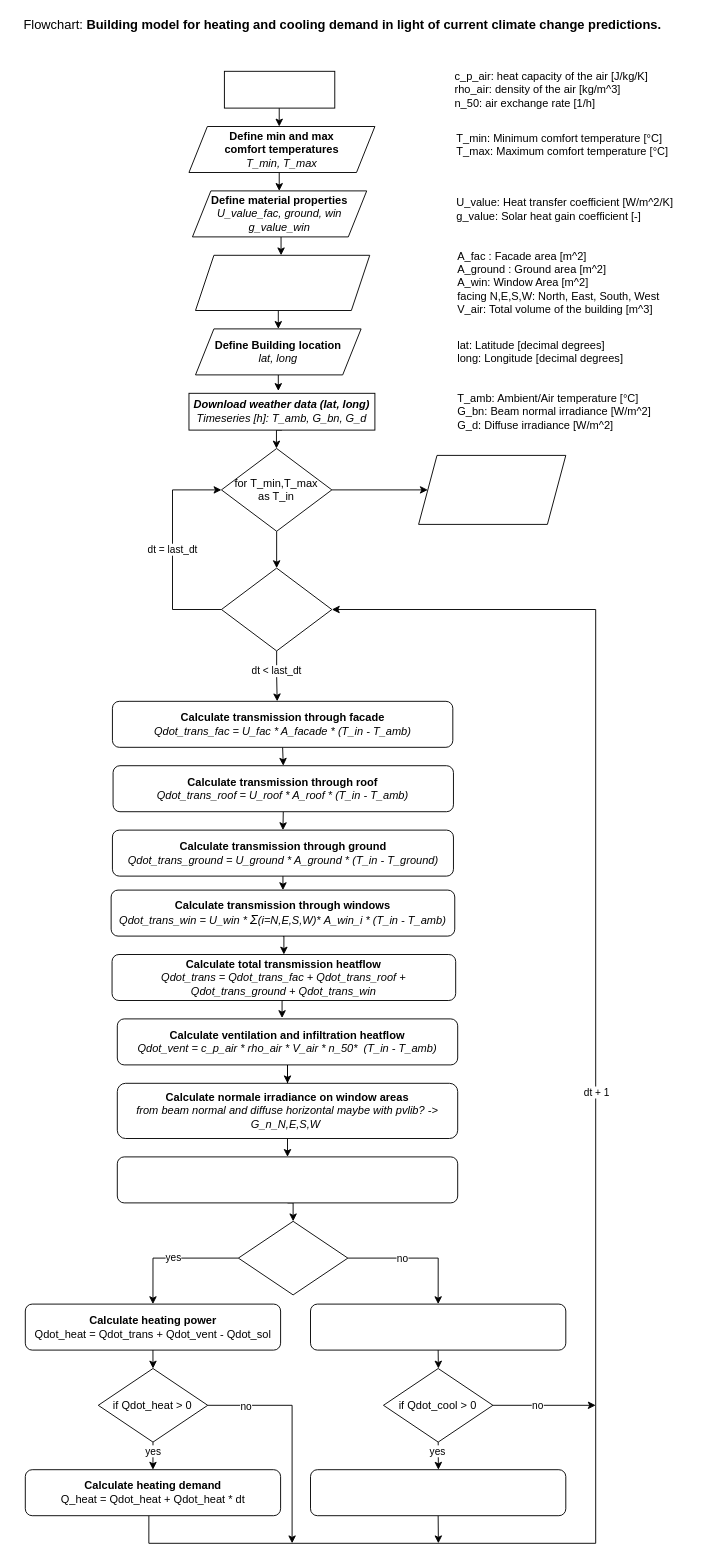
Some shapes in this 703 by 1567 pixel diagram are drawn without their labels. Here are the shapes that lost their labels. From the top down, the centre of each, then its label:
[279,89]: material constants c_p_air, rho_air, n_50
[282,282]: Define building geometry A_fac, A_ground, A_win_N,E,S,W V_air
[492,489]: Print total heating and cooling demand Q_heat, Q_cool
[276,609]: for timestep dt in timeseries
[287,1179]: Calculate solar gains Qdot_sol = g * Σ (i=N,E,S,W) A_i * G_n_i
[292,1257]: if T_in = T_min
[438,1326]: Calculate cooling power Qdot_heat = Qdot_trans + Qdot_vent - Qdot_sol
[438,1492]: Calculate cooling demand Q_cool = Qdot_cool + Qdot_cool * dt
